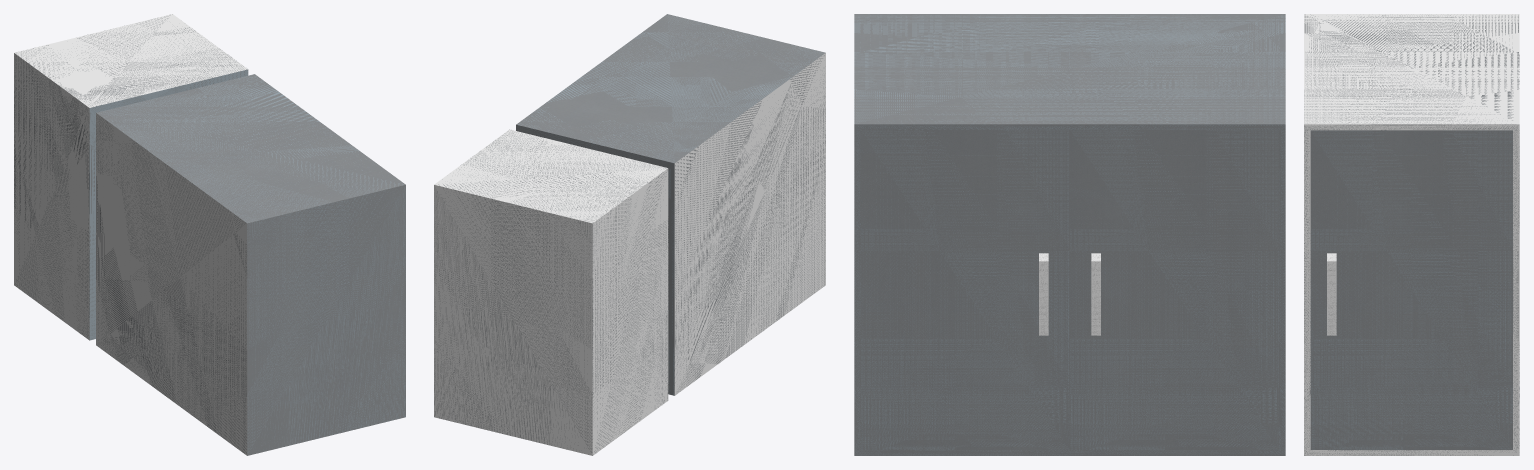
File: Overhead-Cupboard.fbx
3 views of the same model, side by side, from view 1: azimuth 30°, elevation 25°; view 2: azimuth 150°, elevation 25°; view 3: azimuth 270°, elevation 25° (orthographic). The views are drawn at different scales.
Visible parts, largest first — view 1: overhead__no_doors1, single_overhead1; view 2: single_overhead1, overhead__no_doors1; view 3: overhead_door1, overhead_door2, single_overhead_door1, overhead__no_doors1, single_overhead1, door_handle1, door_handle2, door_handle3.
Part boxes in pixels (x1,y1,x2,y2): overhead__no_doors1: (96,74,405,455); single_overhead1: (14,14,248,340); single_overhead1: (434,129,668,455); overhead__no_doors1: (516,14,825,395); overhead_door1: (1070,130,1278,449); overhead_door2: (861,130,1069,449); single_overhead_door1: (1310,130,1512,449); overhead__no_doors1: (854,14,1285,455); single_overhead1: (1304,14,1519,455); door_handle1: (1091,253,1100,335); door_handle2: (1039,253,1048,335); door_handle3: (1327,253,1336,335).
Size of the model in its own units: 430 by 560 by 1018.
